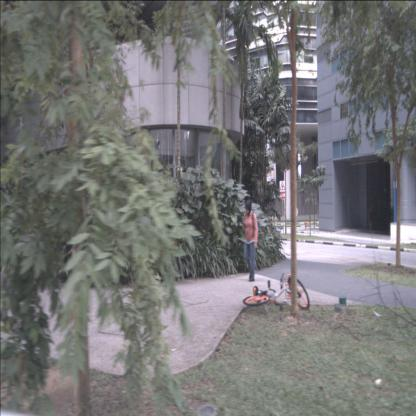human-pedestrian-adult: (242, 199, 258, 281)
vehicle-bicycle: (242, 272, 310, 311)
